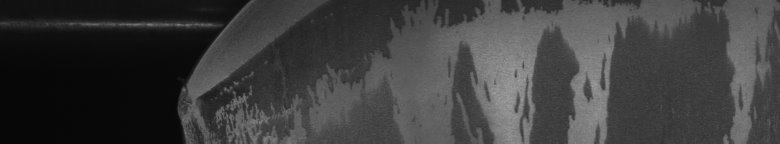kb: (190, 0, 274, 144)
